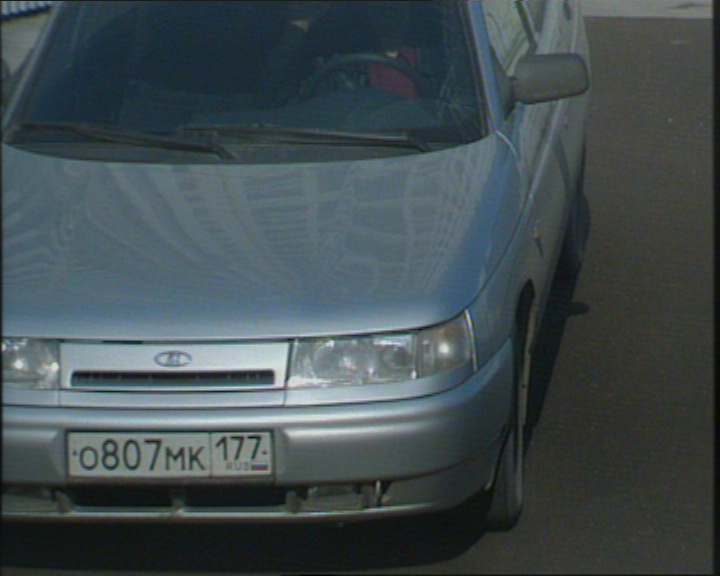car license plate: (64, 418, 275, 485)
